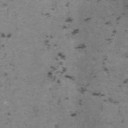oxide scale of temperature system: (44, 12, 128, 118), (0, 30, 12, 48), (4, 72, 8, 76), (8, 112, 11, 116)
